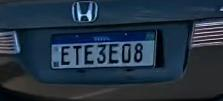Placa_mercosul_carro: (50, 29, 155, 69)
